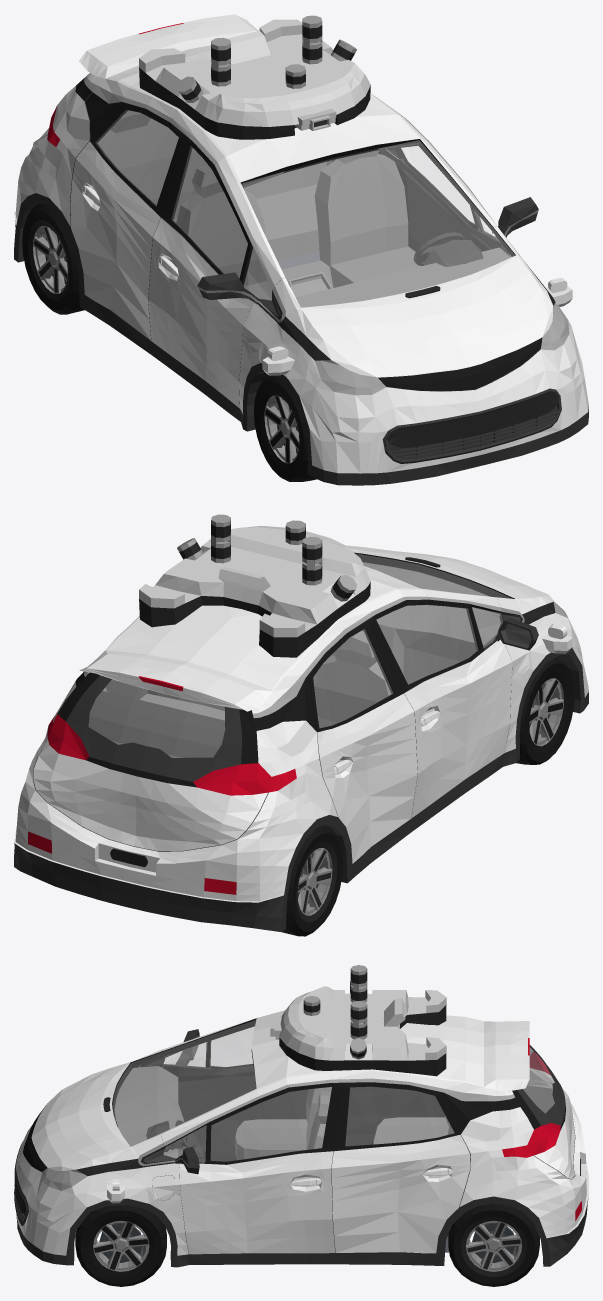
Rendered from self-driving-cruise-car-rig.glb.
3 views of the same model, one above another, from view 1: azimuth 30°, elevation 25°; view 2: azimuth 150°, elevation 25°; view 3: azimuth 270°, elevation 25° (orthographic). The views are drawn at different scales.
Visible parts, largest first — view 1: self-driving-cruise-car; view 2: self-driving-cruise-car; view 3: self-driving-cruise-car.
Boxes of the visible parts, box(x1,y1,x2,y2) form: self-driving-cruise-car: box(14, 14, 588, 485); self-driving-cruise-car: box(14, 514, 588, 936); self-driving-cruise-car: box(14, 965, 588, 1286).
Bounding box in the file's own units: 2.18 × 1.92 × 4.01.
3 materials, 1 textured.
